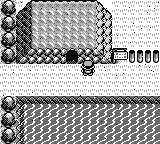captura: (24, 104, 160, 143)
leer: (112, 48, 127, 63)
main: (81, 61, 95, 75)
mo: (18, 96, 158, 143)
no-caminable: (16, 1, 112, 64), (1, 0, 16, 64), (1, 96, 16, 143), (129, 50, 160, 63)
puerta: (66, 50, 78, 64)
